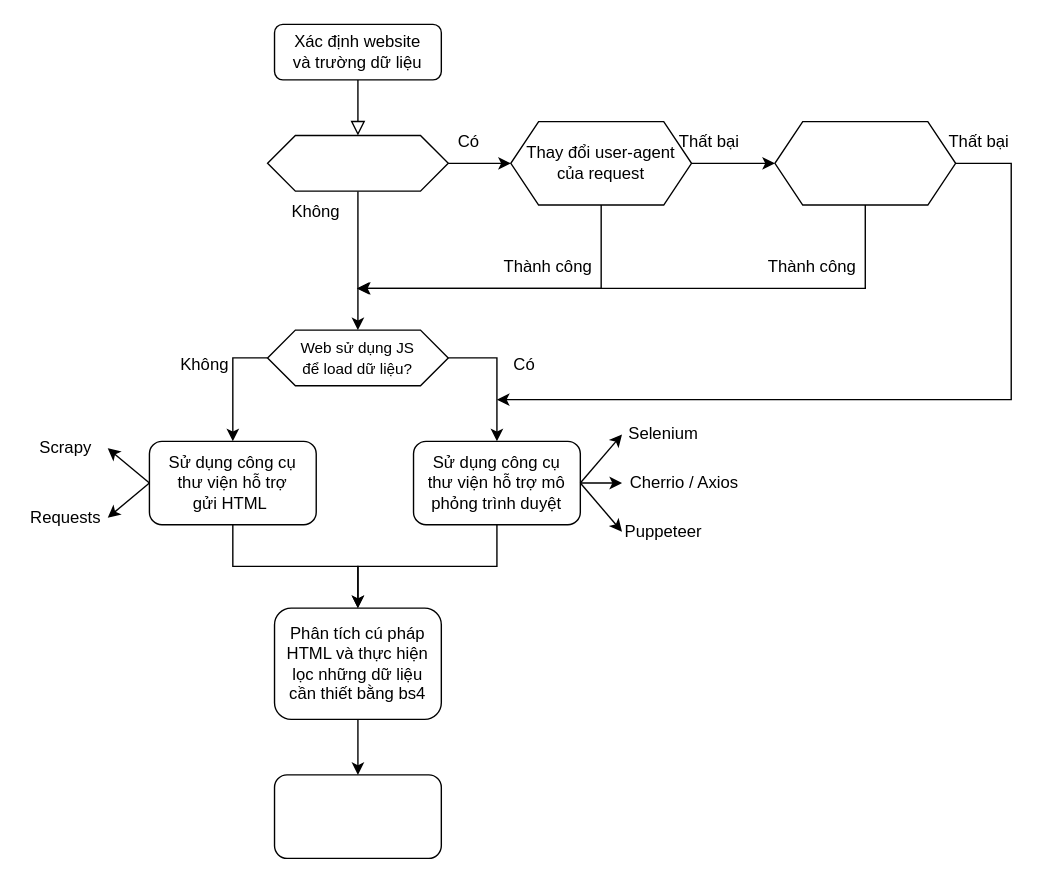
The diagram is 1054 pixels wide and 883 high, and some of its shapes have lost their labels. The box of each missing label's shape, as (x1, y1, x2, y2) in pixels:
Bị chặn request?: (266, 134, 448, 191)
Lưu trữ dữ liệu theo ý muốn (đưa vào object, json, db. . .): (273, 774, 441, 858)
Sử dụng proxy/VPN thay đổi IP: (774, 120, 956, 205)
